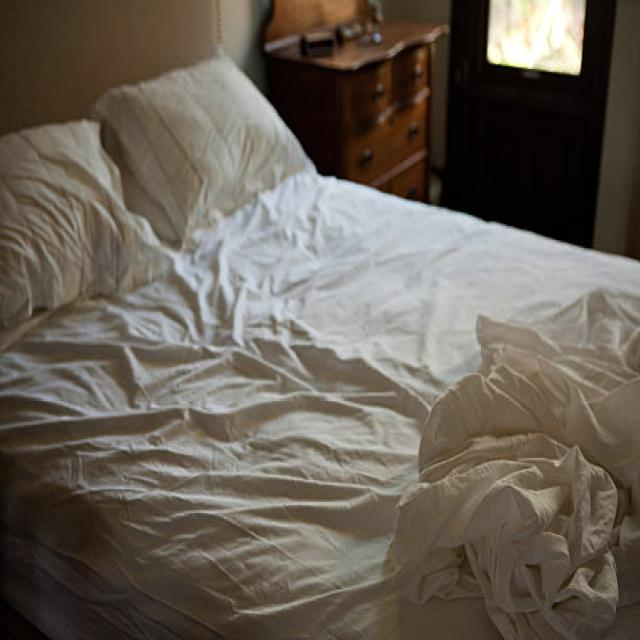bed: (2, 67, 640, 640)
